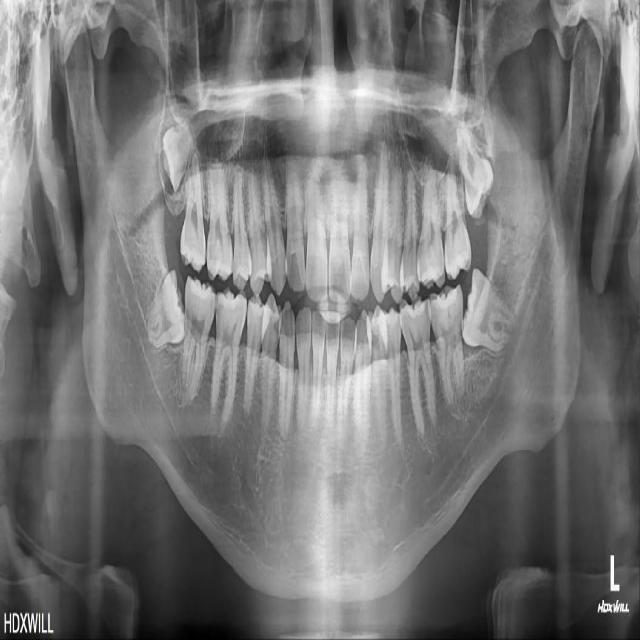3M ESPE Implant: (160, 120, 193, 194)
73: (606, 556, 610, 580)
BioHorizons Implant: (437, 149, 474, 281)
BioLife Implant: (456, 124, 499, 220)
Biomet 3i Implant: (456, 267, 525, 358)
Blue Sky Bio Implant: (426, 283, 473, 411)
Caries: (180, 151, 209, 275)
Implant: (180, 276, 218, 404)
Keystone Dental Implant: (139, 268, 192, 350)
